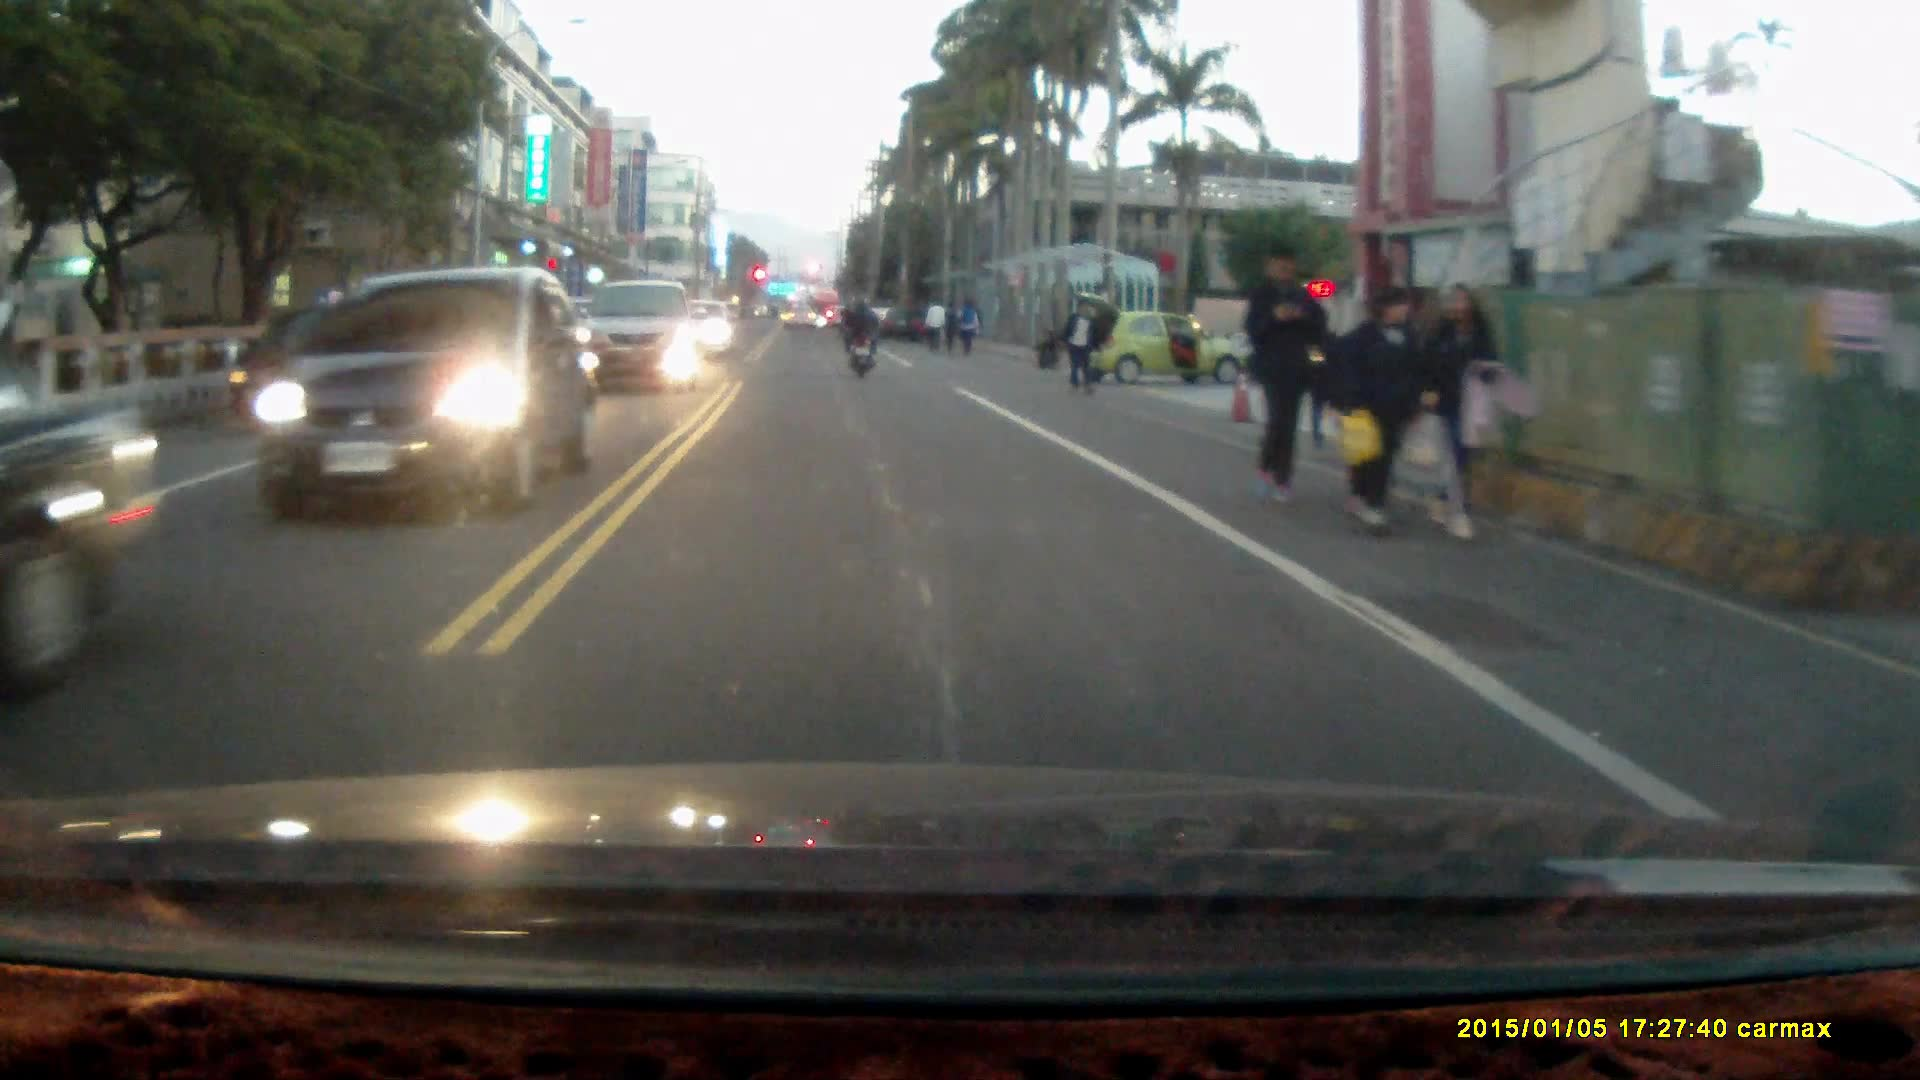pedestrian: (1325, 282, 1419, 536), (1417, 276, 1502, 545), (1242, 243, 1325, 512), (1060, 294, 1099, 396), (1029, 323, 1060, 370)
rider: (838, 293, 879, 380)
vehicle: (248, 267, 593, 519), (1072, 288, 1238, 383), (569, 277, 704, 389)
